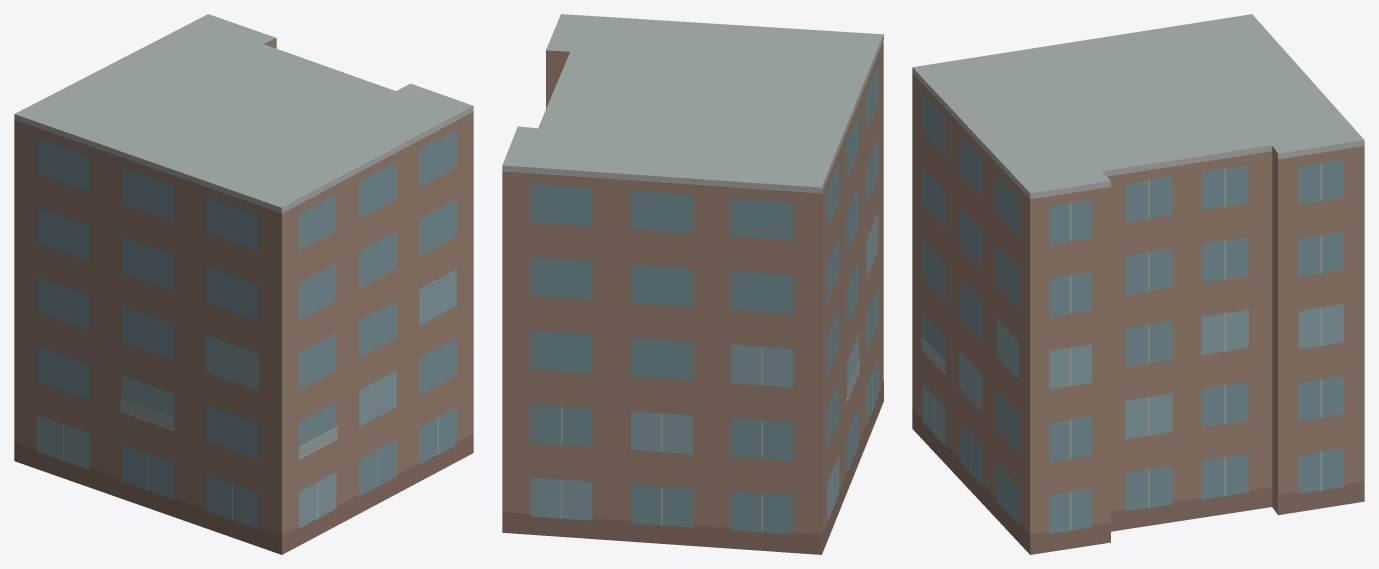
File: survey-upis-32837748.glb
3 views of the same model, side by side, from view 1: azimuth 30°, elevation 25°; view 2: azimuth 150°, elevation 25°; view 3: azimuth 270°, elevation 25° (orthographic). The views are drawn at different scales.
Parts seen in each view (by area): view 1: survey-upis-32837748.tmp; view 2: survey-upis-32837748.tmp; view 3: survey-upis-32837748.tmp.
Boxes of the visible parts, <box> form: survey-upis-32837748.tmp: <box>14,14,473,554</box>; survey-upis-32837748.tmp: <box>502,14,883,554</box>; survey-upis-32837748.tmp: <box>912,14,1364,554</box>.
Bounding box in the file's own units: 15.97 × 15 × 17.01.
